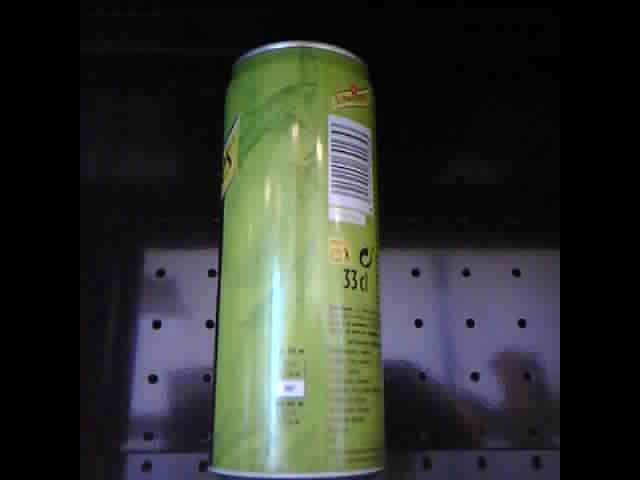schweppes: (199, 35, 388, 477)
